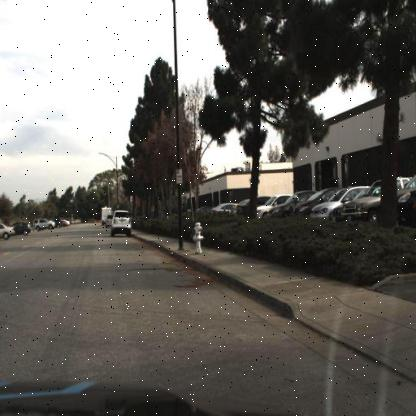car: (340, 177, 408, 224), (309, 185, 358, 221), (311, 185, 356, 219), (266, 190, 304, 217), (108, 209, 133, 238), (16, 218, 39, 240), (31, 214, 56, 232), (0, 219, 16, 243)
